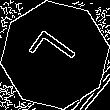L_SE: (25, 28, 85, 82)
